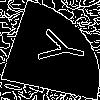Y: (25, 25, 91, 70)
